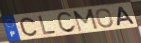A: (116, 6, 137, 27)
C: (56, 11, 78, 34), (19, 17, 39, 37)
L: (37, 15, 58, 36)
M: (71, 8, 99, 33)
O: (95, 8, 115, 29)
